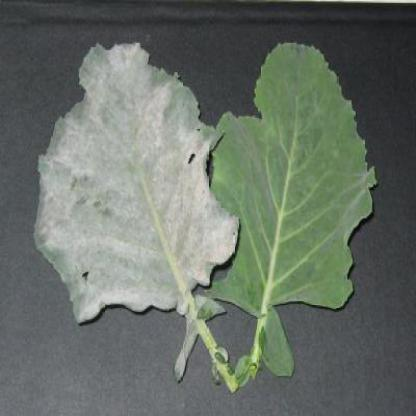Squash Powdery mildew leaf: (25, 39, 242, 316), (204, 32, 378, 320)
